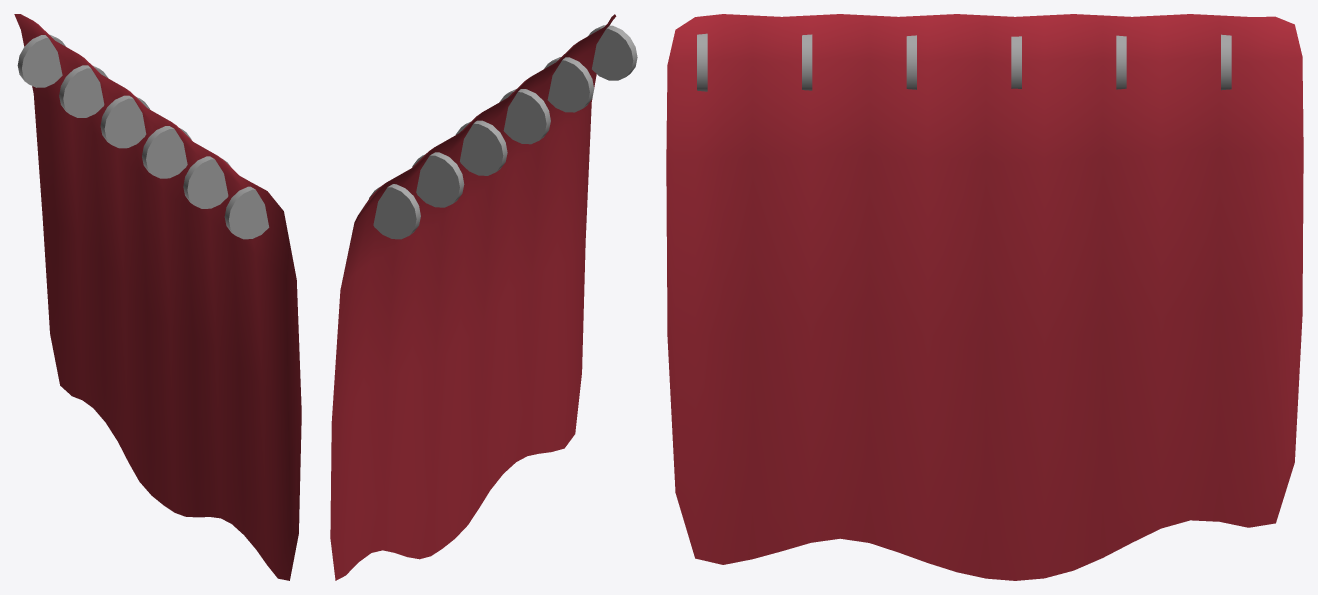
File: Curtain.fbx
3 views of the same model, side by side, from view 1: azimuth 30°, elevation 25°; view 2: azimuth 150°, elevation 25°; view 3: azimuth 270°, elevation 25° (orthographic). The views are drawn at different scales.
Visible parts, largest first — view 1: Curtain.001; view 2: Curtain.001; view 3: Curtain.001.
Boxes of the visible parts, left/top/right/bottom form: Curtain.001: left=14, top=14, right=301, bottom=580; Curtain.001: left=330, top=14, right=637, bottom=580; Curtain.001: left=666, top=14, right=1303, bottom=580.
Size of the model in its own units: 47.7 by 315 by 337.
